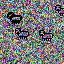sheep: (7, 13, 22, 24), (39, 30, 53, 41), (15, 28, 29, 39), (8, 12, 22, 22), (55, 5, 64, 17)
